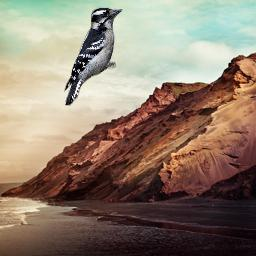Woodpecker: (64, 6, 123, 106)
